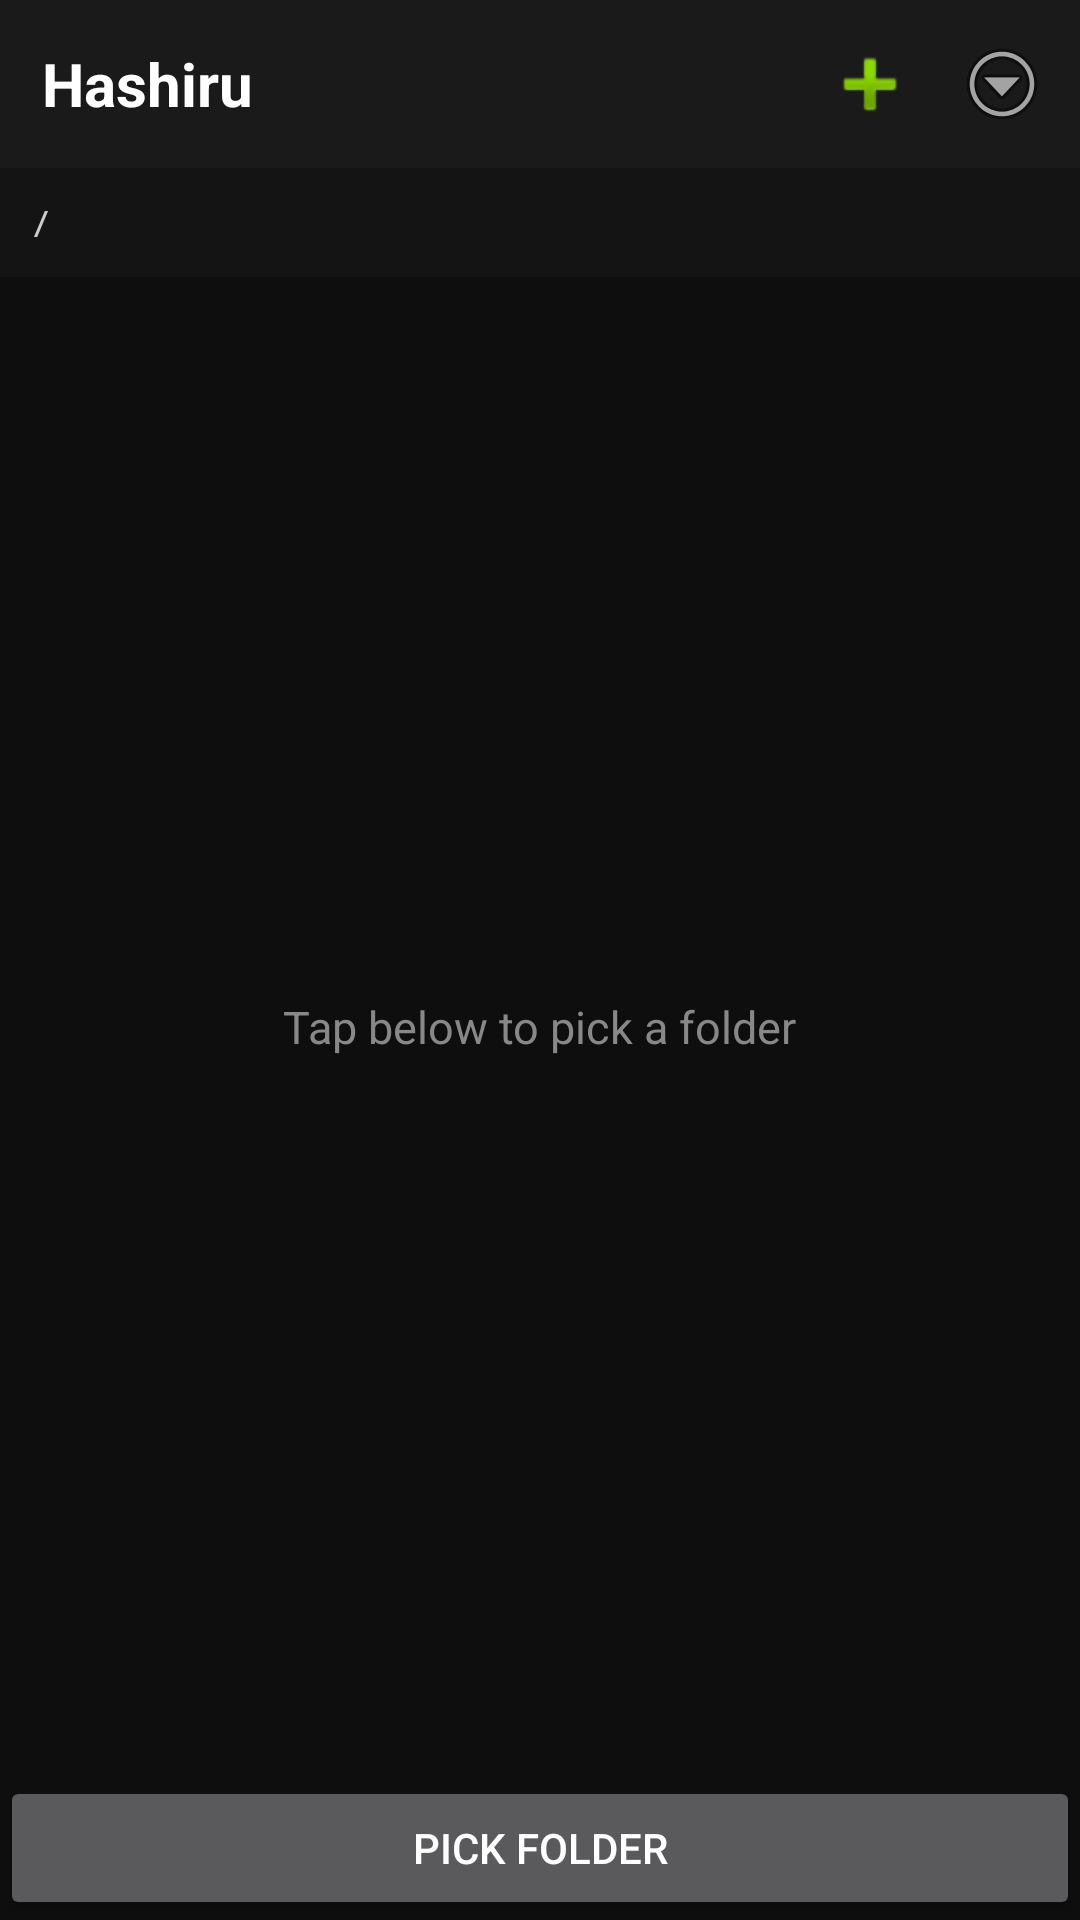

Locate icon controls on the screen. Image size 1080px x 1920px, boxes as [left=x1, top=y1, right=x2, bottom=y2].
Menu: [left=969, top=52, right=1035, bottom=117]
New file or folder: [left=843, top=57, right=897, bottom=111]
